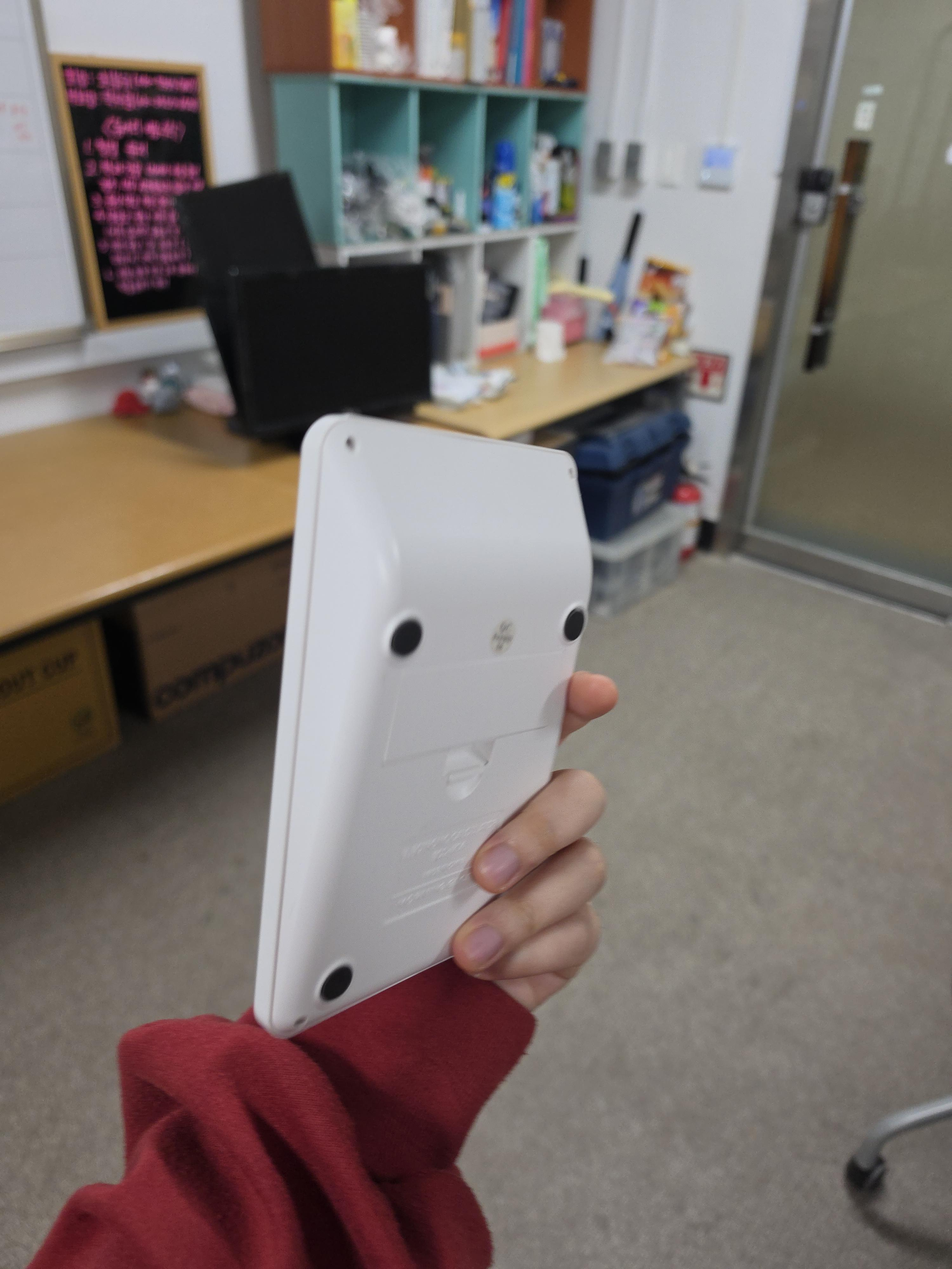calculator: (254, 413, 592, 1040)
